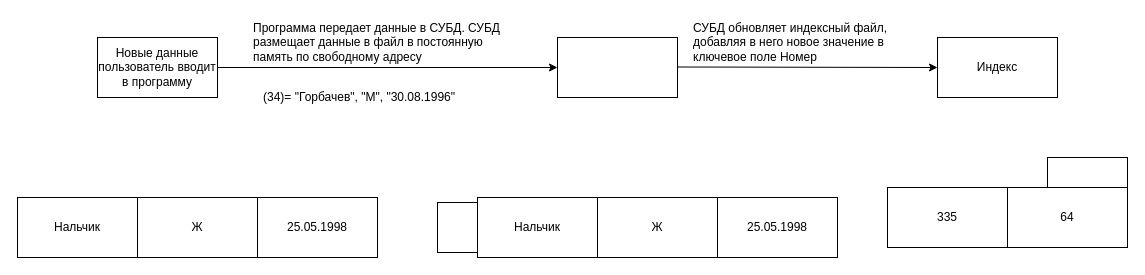
Some shapes in this 1145 by 275 pixel diagram are drawn without their labels. The centre of each missing label's shape, as x and y in pixels:
Ключ "номер": (x=1087, y=172)
Номер ячейки- 335: (x=457, y=227)
Память: (x=617, y=67)
